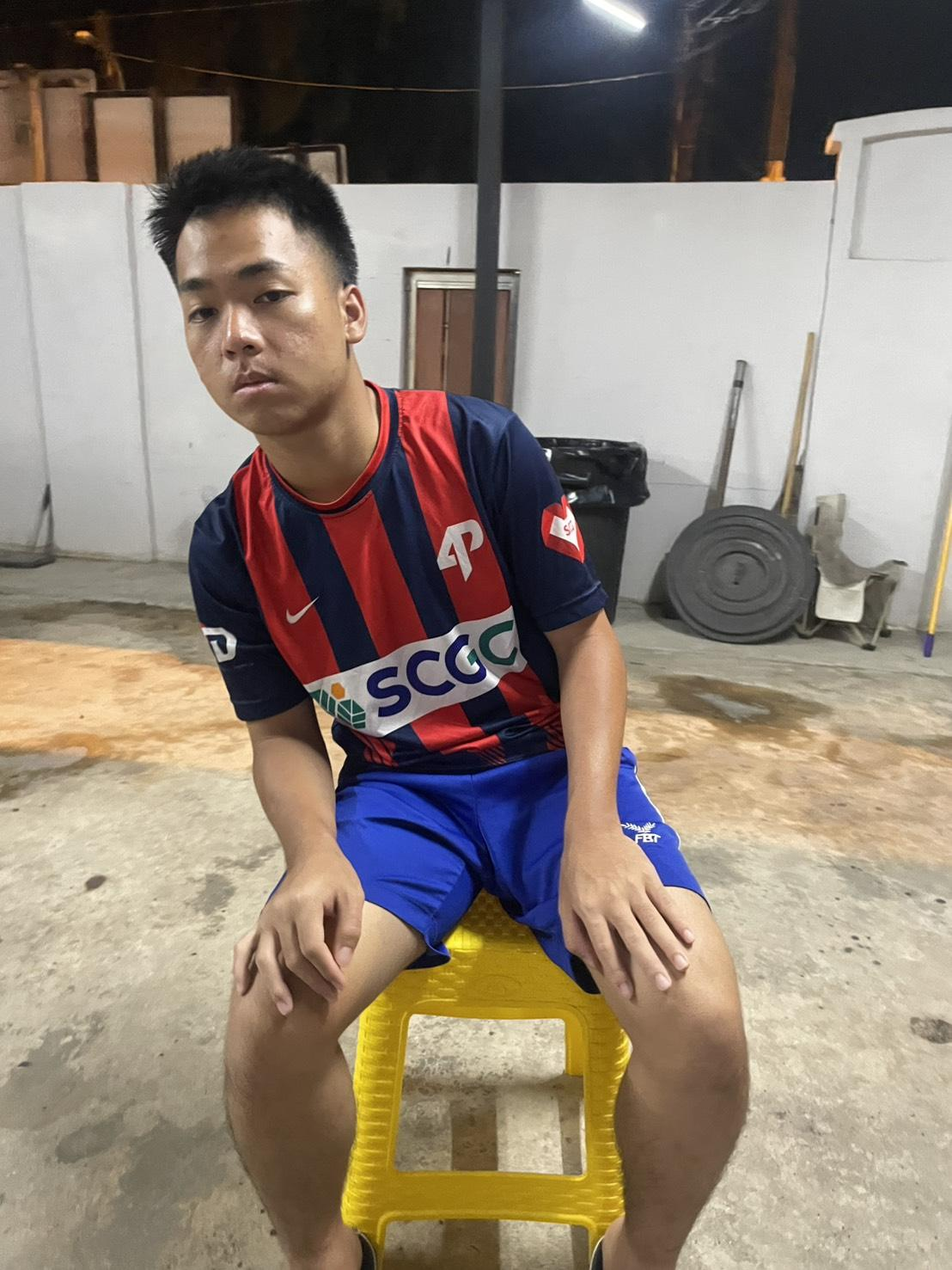BadPosture: (148, 150, 609, 787), (149, 150, 605, 785)
